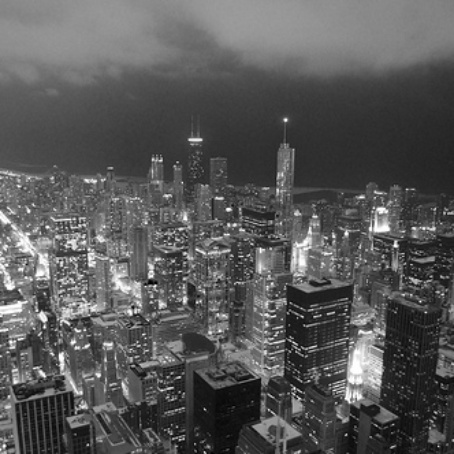building: (284, 263, 357, 413), (373, 288, 446, 438), (186, 348, 266, 454), (12, 368, 96, 454), (44, 207, 94, 306), (189, 231, 239, 330), (264, 134, 297, 240), (138, 243, 185, 304), (142, 148, 167, 215), (183, 132, 208, 199), (242, 199, 279, 239)
sky: (1, 1, 442, 186)
